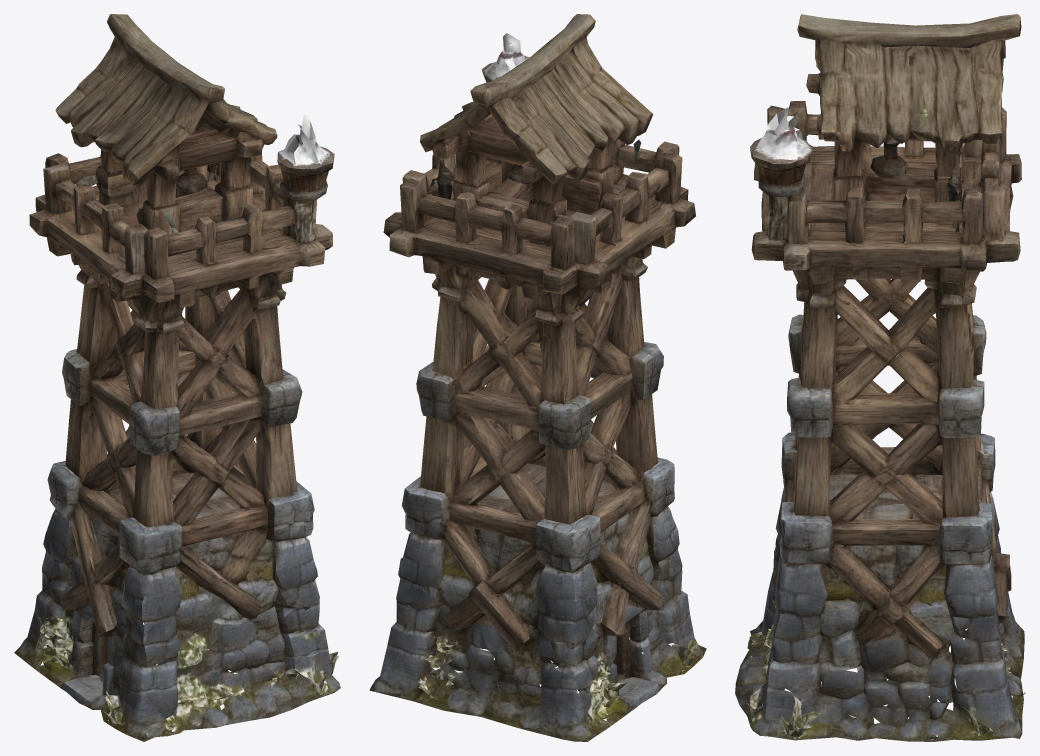
File: watchtower.glb
The picture shows the model from 3 angles, left to right: view 1: azimuth 30°, elevation 25°; view 2: azimuth 150°, elevation 25°; view 3: azimuth 270°, elevation 25°; orthographic projection. The views are drawn at different scales.
Visible parts, largest first — view 1: watchtower; view 2: watchtower; view 3: watchtower.
Part boxes in pixels (x1,y1,x2,y2): watchtower: (14,14,340,741); watchtower: (369,14,706,741); watchtower: (735,14,1025,741).
Size of the model in its own units: 1.36 by 3.41 by 1.35.
1 material, 1 textured.
